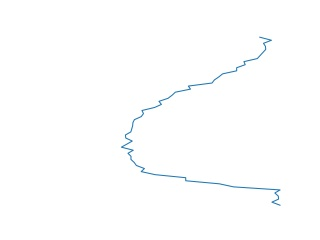underwaterDistributaryChannel: (119, 37, 287, 209)
